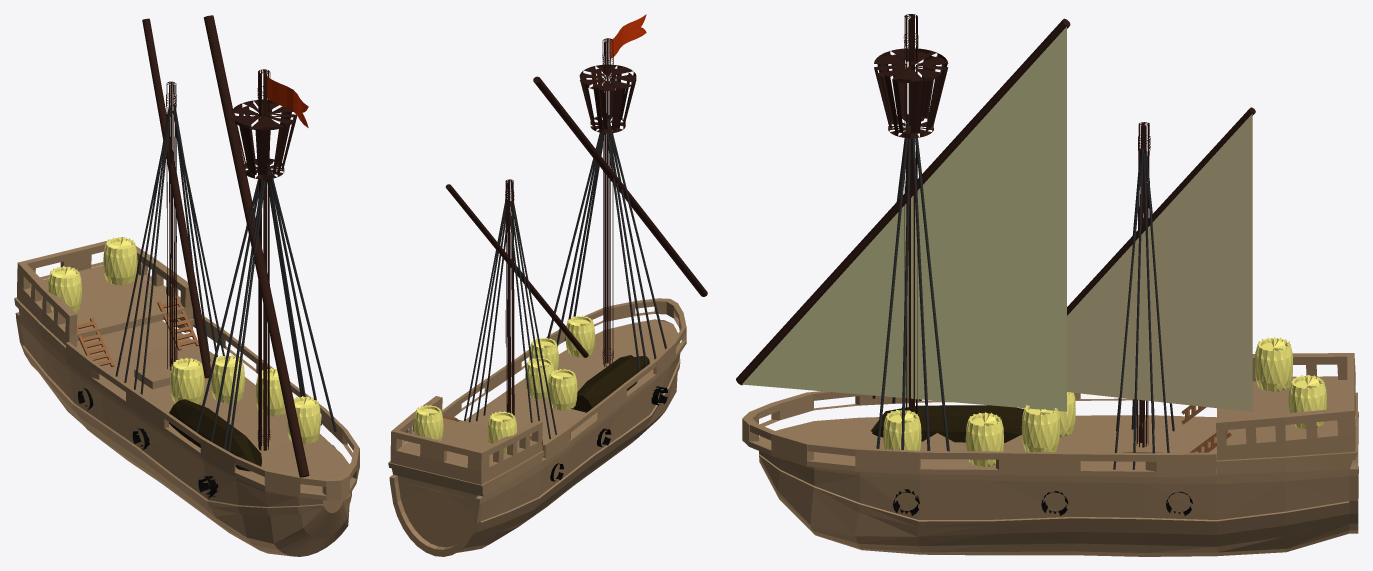
The model's file is Caravel.glb.
3 renders of one model, left to right at view 1: azimuth 30°, elevation 25°; view 2: azimuth 150°, elevation 25°; view 3: azimuth 270°, elevation 25°, orthographic. The views are drawn at different scales.
Visible parts, largest first — view 1: Sphere; view 2: Sphere; view 3: Sphere.
Part boxes in pixels (<box>): Sphere: <box>14,15,359,556</box>; Sphere: <box>388,14,707,556</box>; Sphere: <box>736,14,1358,556</box>.
Size of the model in its own units: 0.8951 by 3.06 by 3.21.
